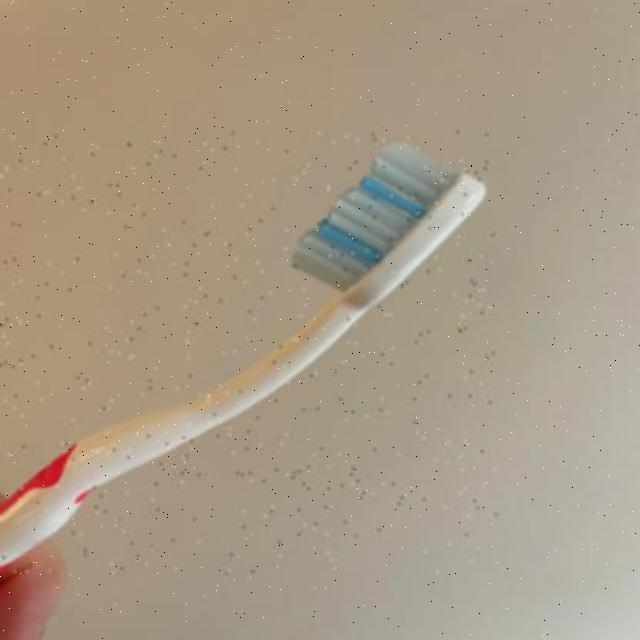toothbrush: (0, 131, 496, 574)
